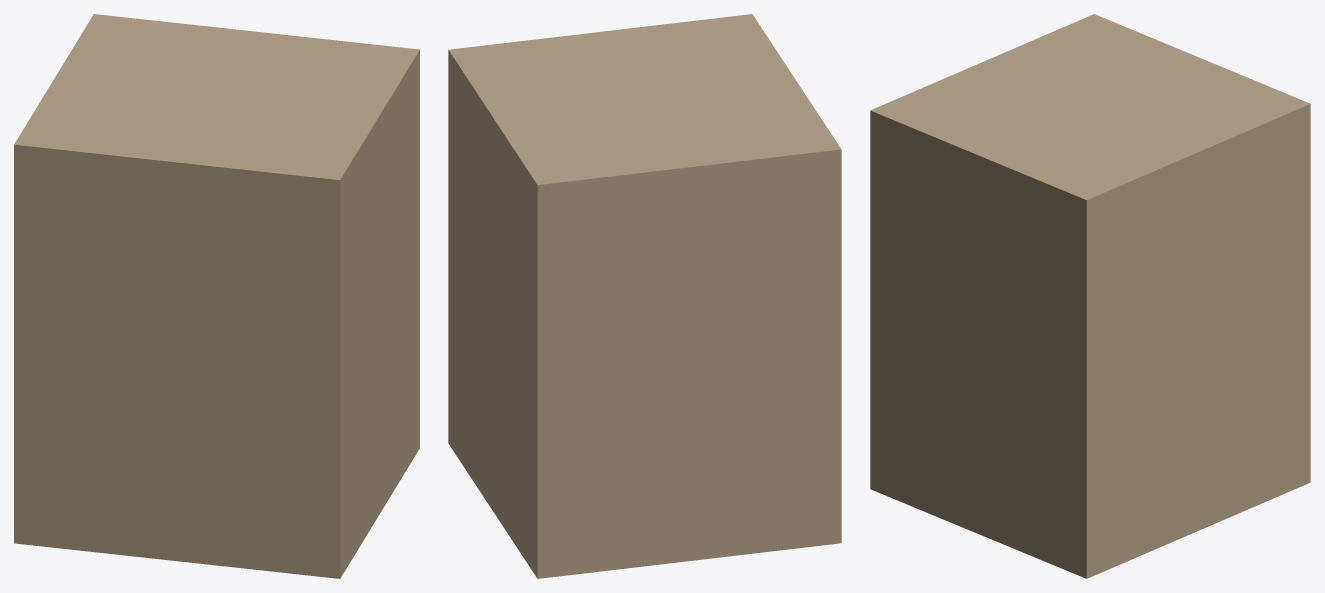
Rendered from bld_101374726.dae.
3 renders of one model, left to right at view 1: azimuth 30°, elevation 25°; view 2: azimuth 150°, elevation 25°; view 3: azimuth 270°, elevation 25°, orthographic. The views are drawn at different scales.
Visible parts, largest first — view 1: bld_101374726; view 2: bld_101374726; view 3: bld_101374726.
Boxes of the visible parts, bbox=[...] form: bld_101374726: bbox=[14, 14, 419, 578]; bld_101374726: bbox=[448, 14, 841, 578]; bld_101374726: bbox=[870, 14, 1310, 578].
Size of the model in its own units: 8.44 by 8.43 by 8.
